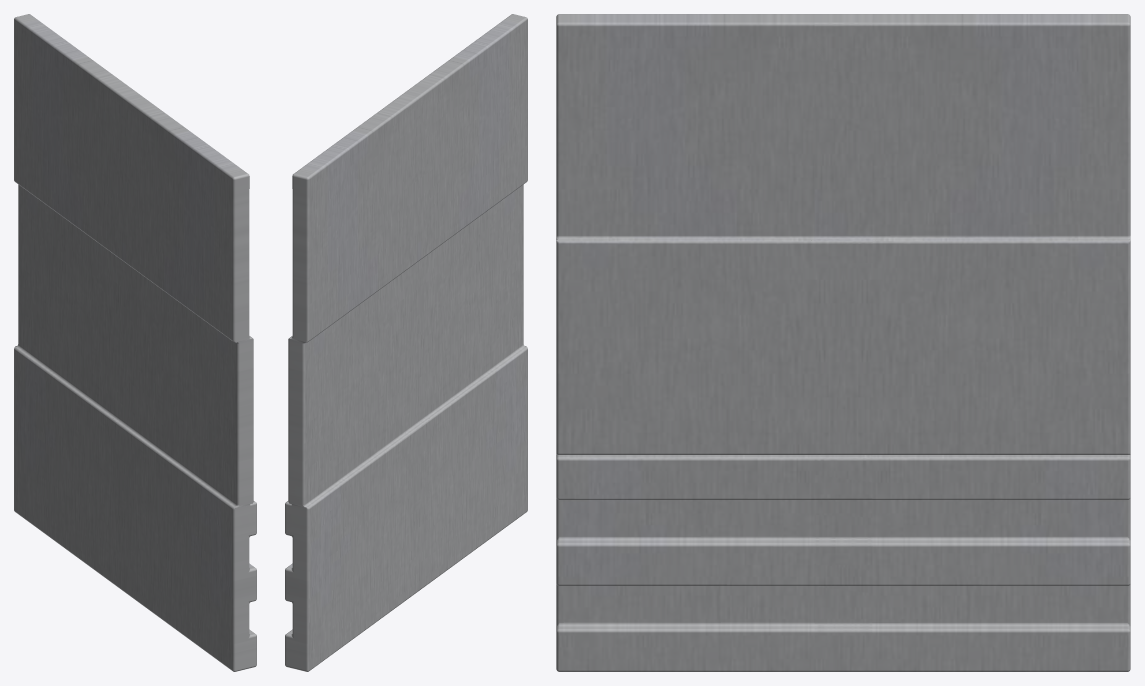
Rendered from cover-00.glb.
3 renders of one model, left to right at view 1: azimuth 30°, elevation 25°; view 2: azimuth 150°, elevation 25°; view 3: azimuth 270°, elevation 25°, orthographic. The views are drawn at different scales.
Parts seen in each view (by area): view 1: COVER_00; view 2: COVER_00; view 3: COVER_00.
Boxes of the visible parts, x1=… form: COVER_00: x1=14, y1=14, x2=256, y2=671; COVER_00: x1=285, y1=14, x2=527, y2=671; COVER_00: x1=556, y1=14, x2=1130, y2=671.
Bounding box in the file's own units: 0.1594 × 3.12 × 2.52.
1 material, 1 textured.
